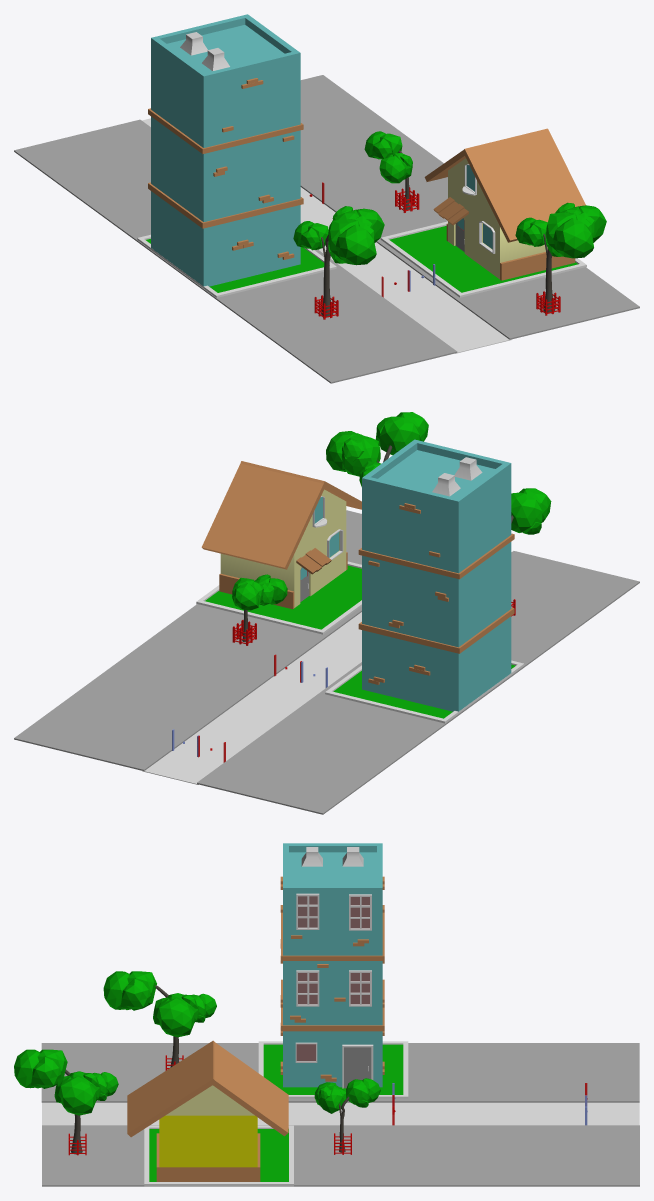
The model's file is Pizza_oyunu_yol_ve_binalar 1.fbx.
The picture shows the model from 3 angles, top to bottom: view 1: azimuth 30°, elevation 25°; view 2: azimuth 150°, elevation 25°; view 3: azimuth 270°, elevation 25°; orthographic projection. The views are drawn at different scales.
Visible parts, largest first — view 1: bina, pCube54, pCube55, pCube62, pCube52, pCube69, pCube77, Icosphere (×3), Icosphere1 (×3), pCube76, Icosphere2 (×2); view 2: bina, pCube55, pCube54, pCube52, pCube61, pCube69, pCube77, Icosphere (×3), Icosphere1 (×2), pCube76, pCube62; view 3: pCube55, bina, pCube54, pCube52, pCube69, Icosphere (×3), pCube62, Icosphere1 (×3), pCube61, pCube77, pCube76, pCube8 (×4) (+1 smaller).
Part boxes in pixels (left/top/right/bottom): bina: left=148, top=14, right=303, bottom=286; pCube54: left=14, top=119, right=457, bottom=383; pCube55: left=300, top=75, right=639, bottom=339; pCube62: left=462, top=128, right=585, bottom=242; pCube52: left=142, top=118, right=511, bottom=353; pCube69: left=446, top=158, right=575, bottom=280; pCube77: left=380, top=221, right=586, bottom=297; Icosphere (×3): left=328, top=131, right=593, bottom=265; Icosphere1 (×3): left=328, top=153, right=606, bottom=242; pCube76: left=137, top=234, right=336, bottom=297; Icosphere2 (×2): left=293, top=217, right=547, bottom=250; bina: left=358, top=439, right=514, bottom=711; pCube55: left=14, top=510, right=361, bottom=770; pCube54: left=197, top=551, right=639, bottom=814; pCube52: left=142, top=612, right=361, bottom=784; pCube61: left=201, top=463, right=324, bottom=569; pCube69: left=219, top=489, right=347, bottom=609; pCube77: left=196, top=561, right=361, bottom=634; Icosphere (×3): left=232, top=412, right=551, bottom=610; Icosphere1 (×2): left=254, top=431, right=380, bottom=605; pCube76: left=325, top=660, right=524, bottom=723; pCube62: left=240, top=461, right=361, bottom=509; pCube55: left=42, top=1125, right=639, bottom=1186; bina: left=281, top=843, right=384, bottom=1087; pCube54: left=41, top=1043, right=639, bottom=1102; pCube52: left=42, top=1102, right=639, bottom=1125; pCube69: left=156, top=1085, right=260, bottom=1181; Icosphere (×3): left=14, top=971, right=380, bottom=1107; pCube62: left=127, top=1040, right=216, bottom=1137; Icosphere1 (×3): left=54, top=993, right=346, bottom=1115; pCube61: left=210, top=1042, right=288, bottom=1136; pCube77: left=144, top=1125, right=293, bottom=1186; pCube76: left=258, top=1041, right=408, bottom=1098; pCube8 (×4): left=296, top=893, right=371, bottom=1006.
Size of the model in its own units: 13.55 by 9.22 by 25.
